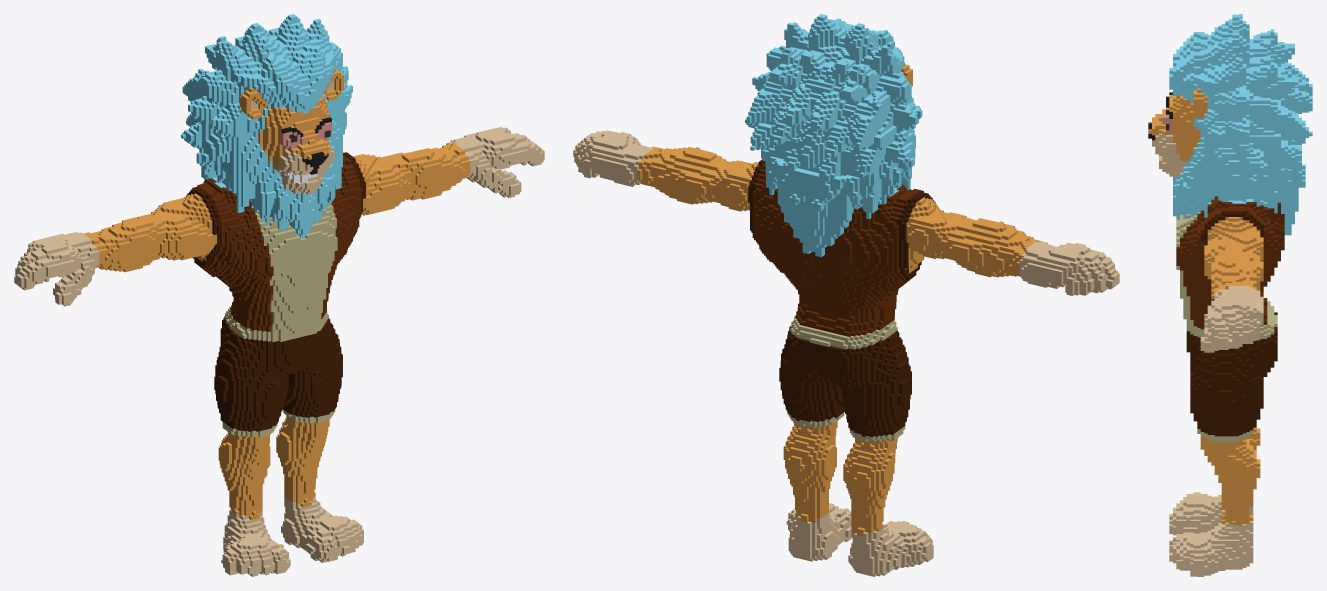
File: 633-CDk8Y7OR.glb
3 renders of one model, left to right at view 1: azimuth 30°, elevation 25°; view 2: azimuth 150°, elevation 25°; view 3: azimuth 270°, elevation 25°, orthographic. The views are drawn at different scales.
Parts seen in each view (by area): view 1: grin; view 2: grin; view 3: grin.
Part boxes in pixels (box(x1,y1,x2,y2)): grin: box(14, 14, 544, 576); grin: box(573, 14, 1119, 576); grin: box(1148, 14, 1312, 576).
Size of the model in its own units: 17.2 by 16.5 by 4.7.
5 materials, 5 textured.
